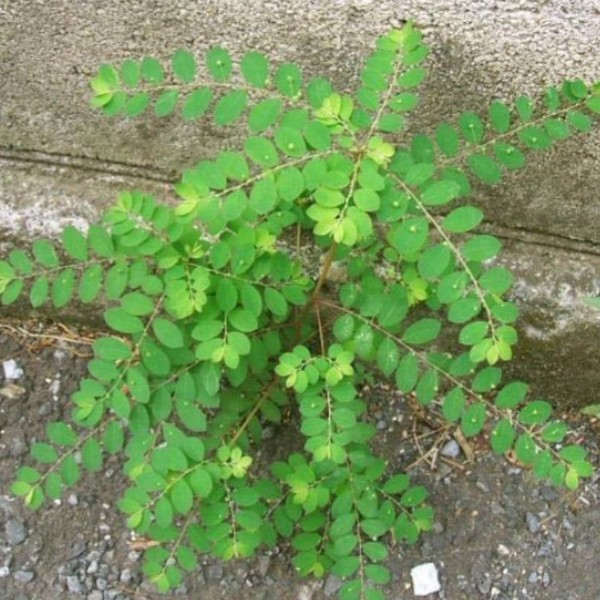obstacle: (50, 46, 541, 559)
